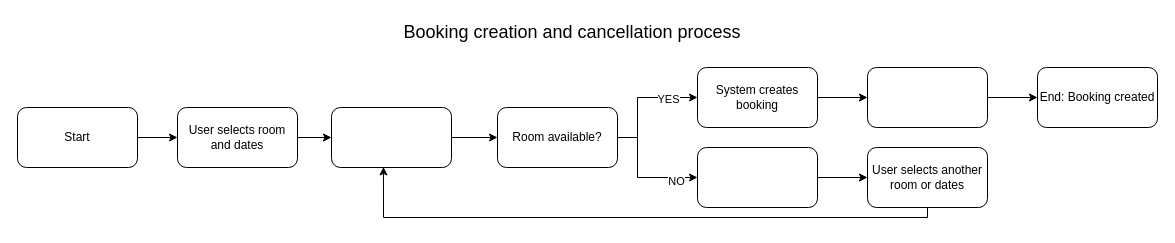
The diagram is 1175 pixels wide and 243 high, and some of its shapes have lost their labels. The centre of each missing label's shape, as x and y in pixels:
"Show room unavailable message" goes at (x=757, y=177).
"System checks availability" goes at (x=391, y=137).
"System sends confirmation email" goes at (x=927, y=97).
